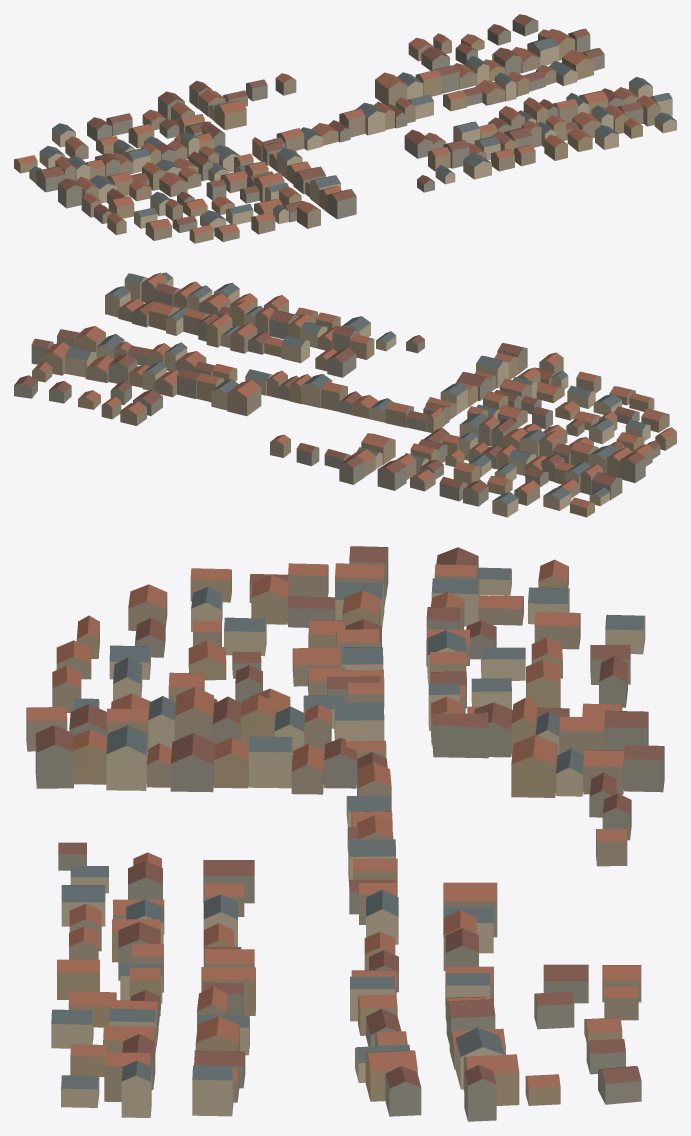
The picture shows the model from 3 angles, top to bottom: view 1: azimuth 30°, elevation 25°; view 2: azimuth 150°, elevation 25°; view 3: azimuth 270°, elevation 25°; orthographic projection. The views are drawn at different scales.
Visible parts, largest first — view 1: C_-3_1; view 2: C_-3_1; view 3: C_-3_1.
Part boxes in pixels (bbox=[...]): C_-3_1: bbox=[14, 14, 676, 243]; C_-3_1: bbox=[14, 272, 676, 517]; C_-3_1: bbox=[26, 546, 664, 1121].
Bounding box in the file's own units: 367 × 14.47 × 184.
